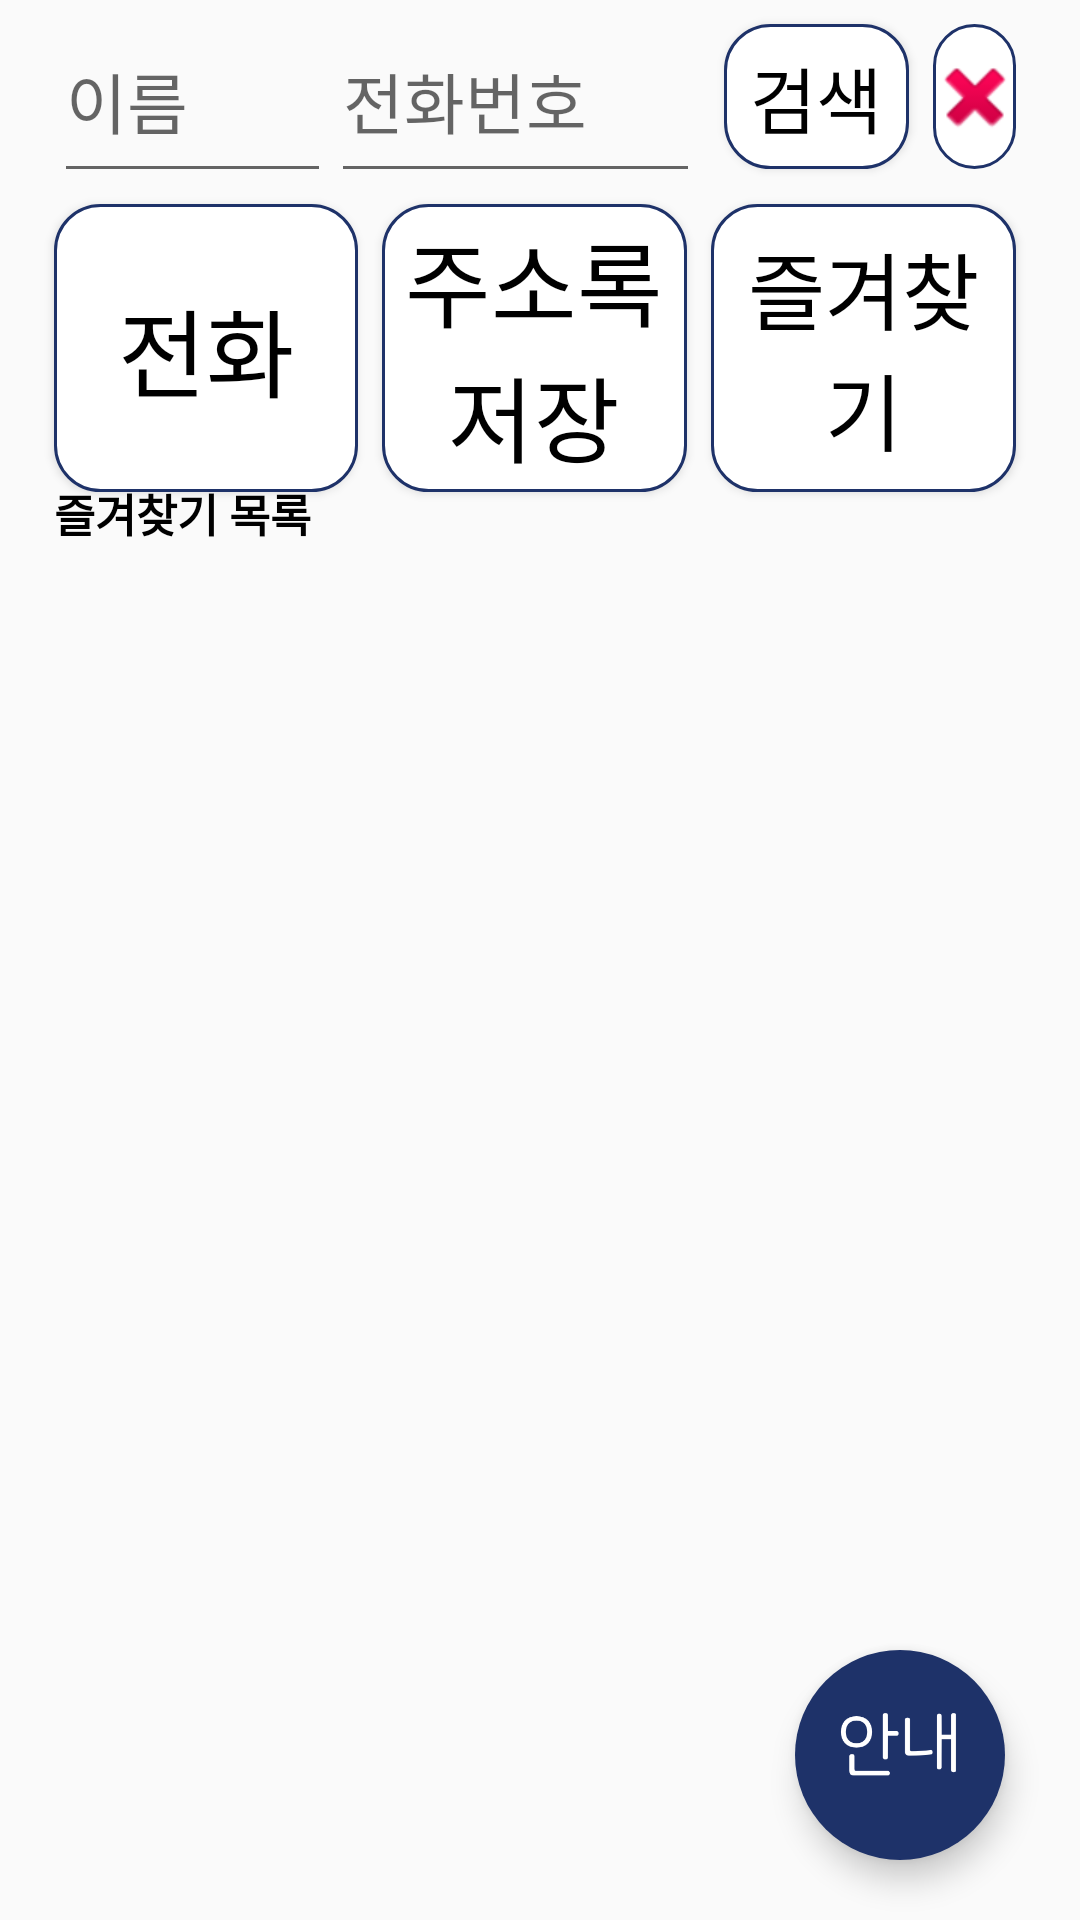

Where to tap for icons on this 1080 x 1920 app screen, as (x,y):
delete: (974,96)
